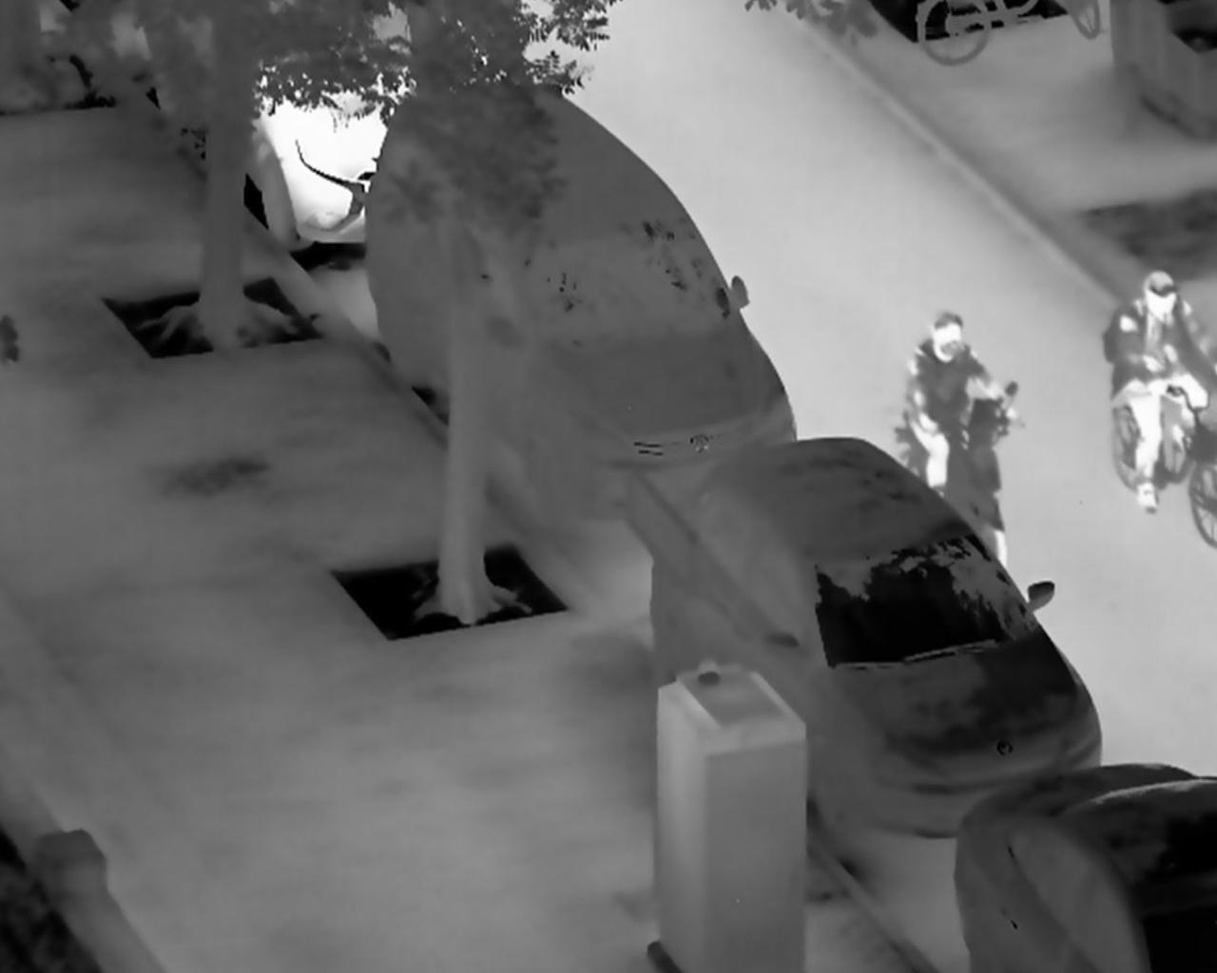person: (1099, 271, 1217, 517), (902, 308, 1019, 500)
